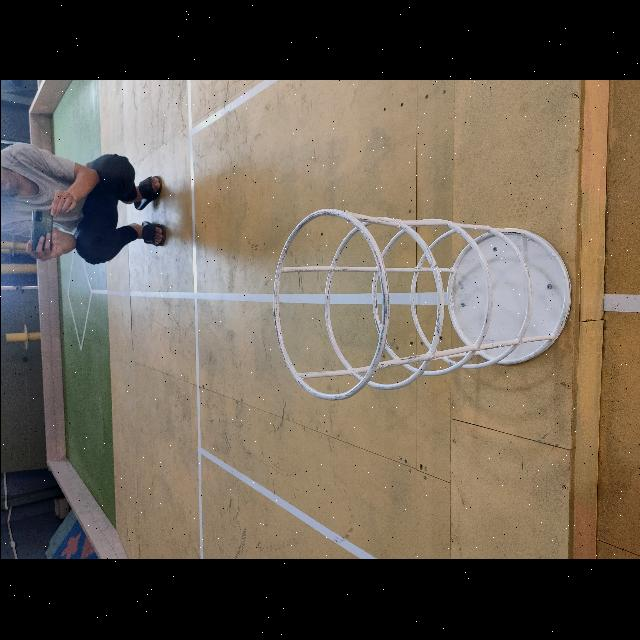S: (273, 207, 573, 403)
